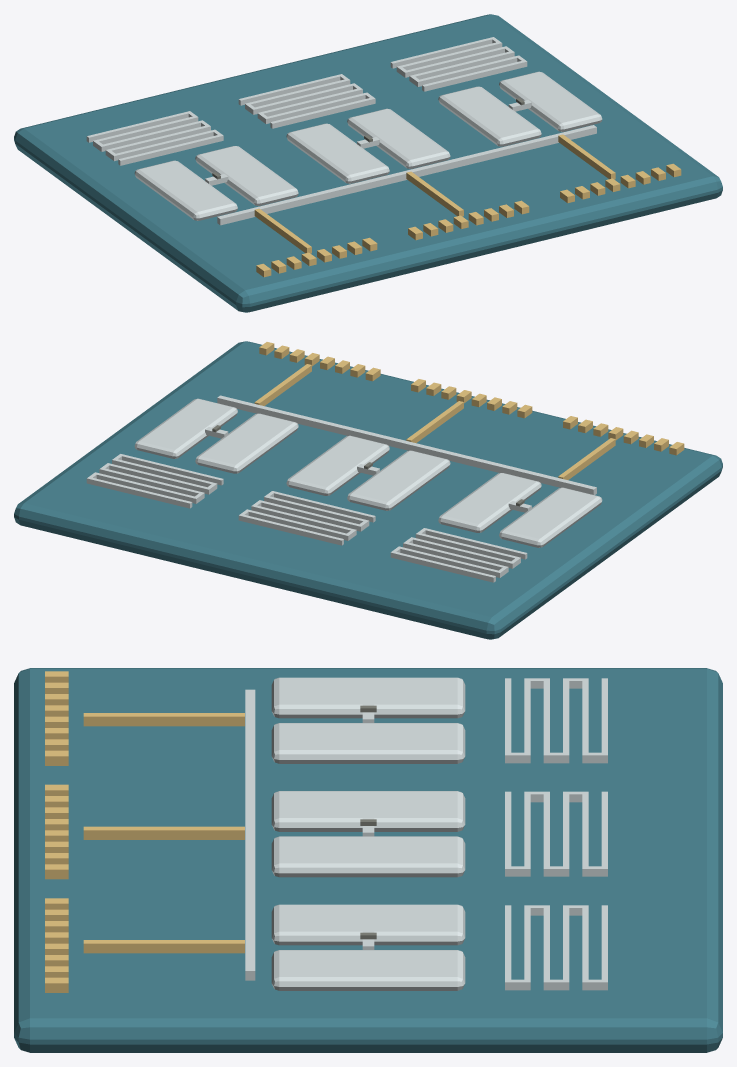
File: processor.glb
The picture shows the model from 3 angles, top to bottom: view 1: azimuth 30°, elevation 25°; view 2: azimuth 150°, elevation 25°; view 3: azimuth 270°, elevation 25°; orthographic projection. The views are drawn at different scales.
Visible parts, largest first — view 1: Sapphire schematic substrate, Superconducting metal schematic, Gold interconnect; view 2: Sapphire schematic substrate, Superconducting metal schematic, Gold interconnect; view 3: Sapphire schematic substrate, Superconducting metal schematic, Gold interconnect.
Part boxes in pixels (x1=…): Sapphire schematic substrate: x1=14, y1=14, x2=722, y2=312; Superconducting metal schematic: x1=86, y1=37, x2=602, y2=225; Gold interconnect: x1=254, y1=134, x2=681, y2=277; Sapphire schematic substrate: x1=14, y1=341, x2=722, y2=639; Superconducting metal schematic: x1=86, y1=395, x2=602, y2=582; Gold interconnect: x1=254, y1=342, x2=684, y2=479; Sapphire schematic substrate: x1=14, y1=668, x2=722, y2=1052; Superconducting metal schematic: x1=245, y1=677, x2=607, y2=990; Gold interconnect: x1=45, y1=671, x2=244, y2=992.
Bounding box in the file's own units: 0.8 × 0.0585 × 0.66.
